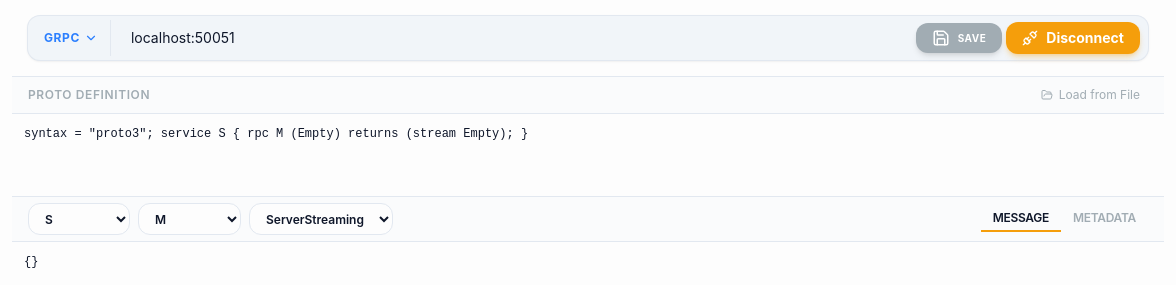
Scenario: GrpcEditor › disconnects a streaming gRPC request and updates status to disconnected
Click the button "Disconnect".
click(1073, 38)  # box [1006,22,1140,54]
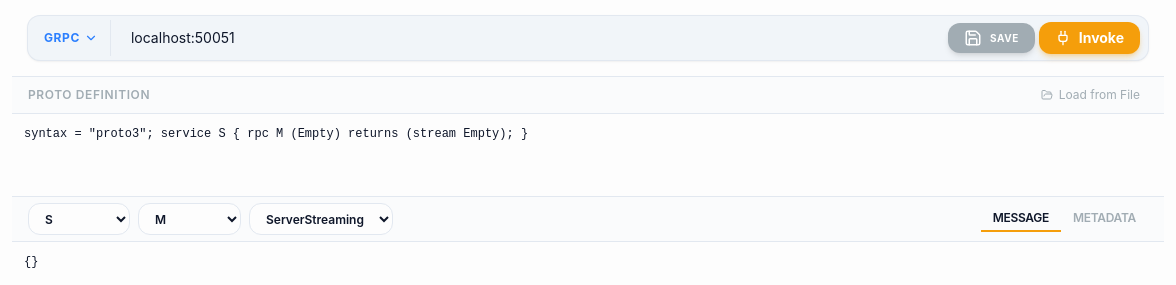
Check: the button "Invoke" is shown, box [1039,22,1140,54]
